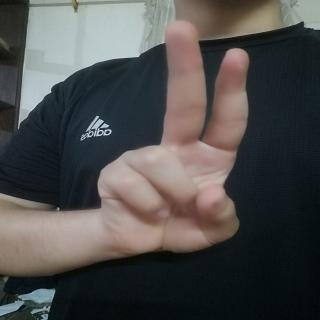TA: (94, 13, 264, 261)
